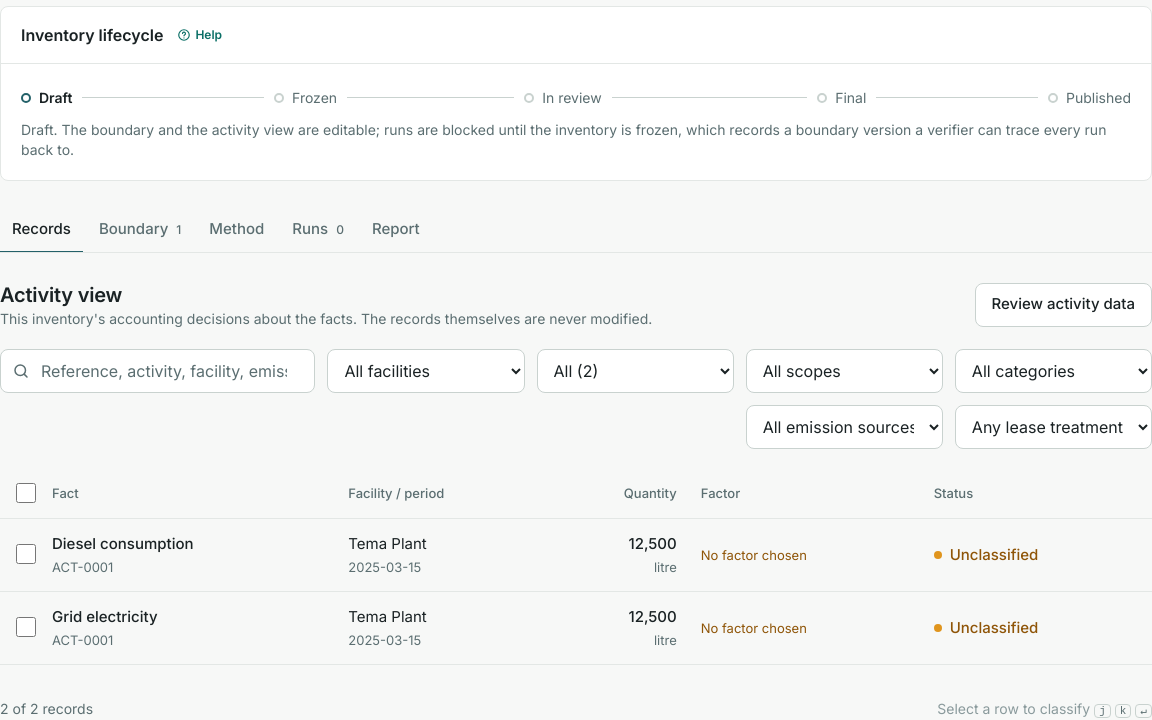
Test: a page of records is excluded under one reason (spec 05.6)
This screenshot has width=1152, height=720.
(page scrolled)
Click the checkbox named "Select all on this page".
click(26, 492)  # box x1=16 y1=482 x2=36 y2=502
(page scrolled)
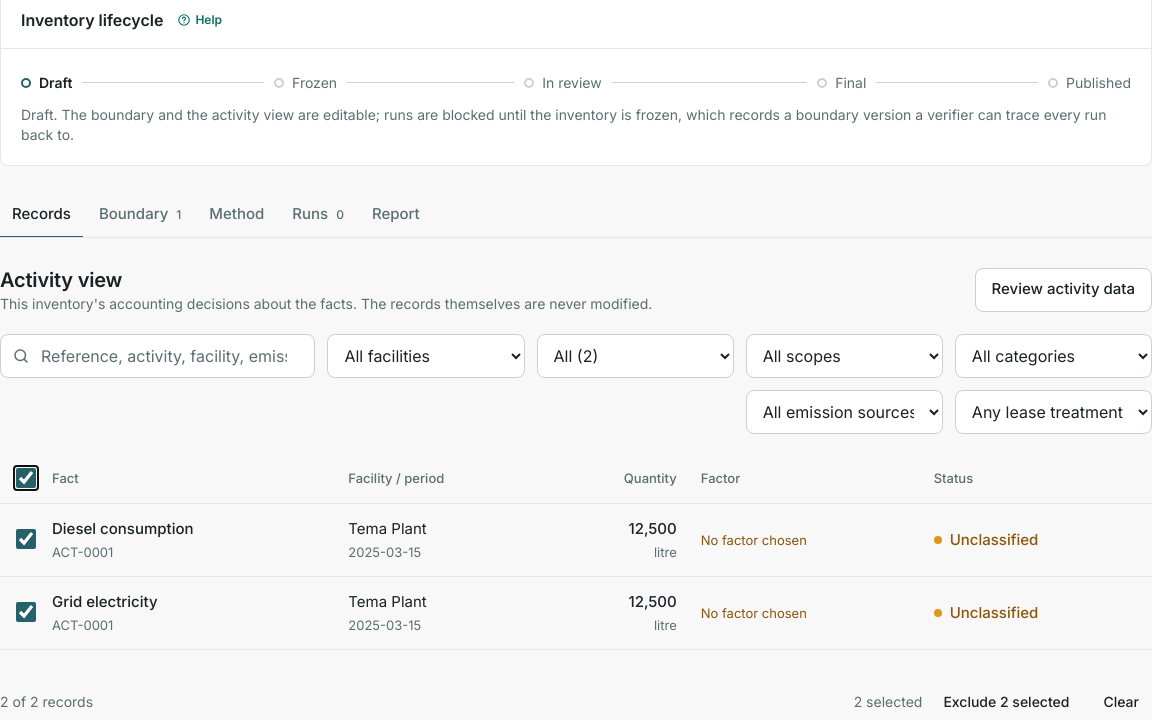
Click the button "Exclude 2 selected".
click(1006, 702)  # box x1=930 y1=684 x2=1082 y2=719
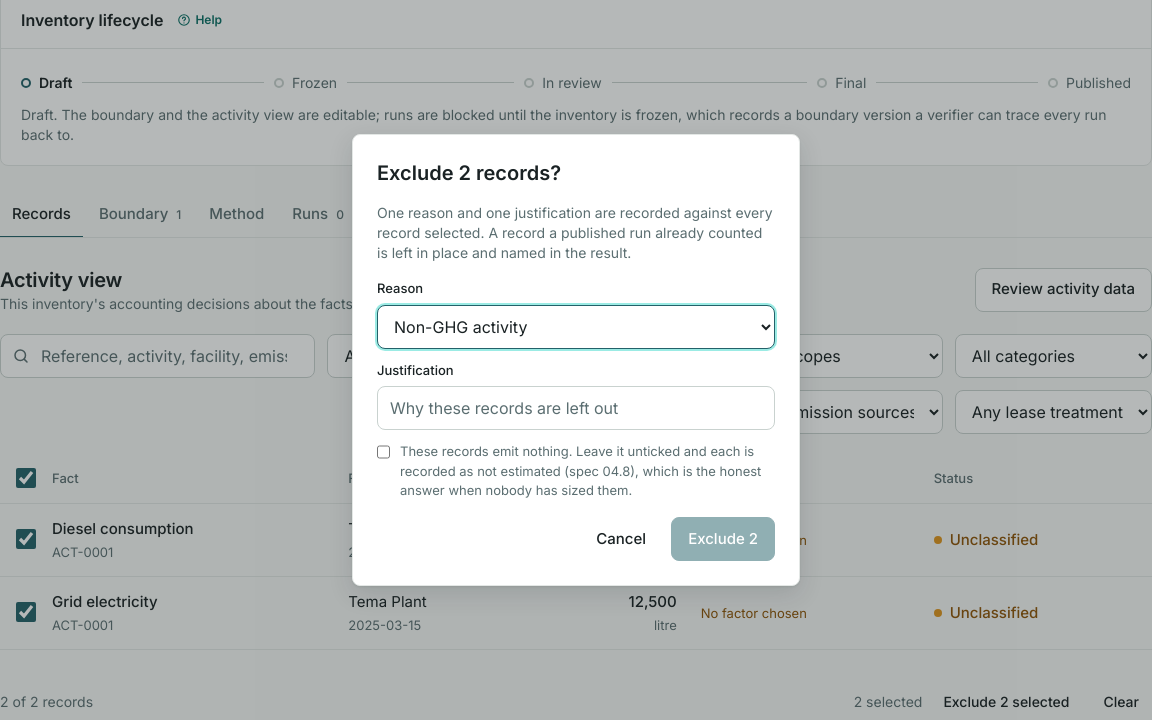
Select "Not applicable" in the dropdown labelled "Reason" at (576, 327), box x1=377 y1=305 x2=775 y2=349
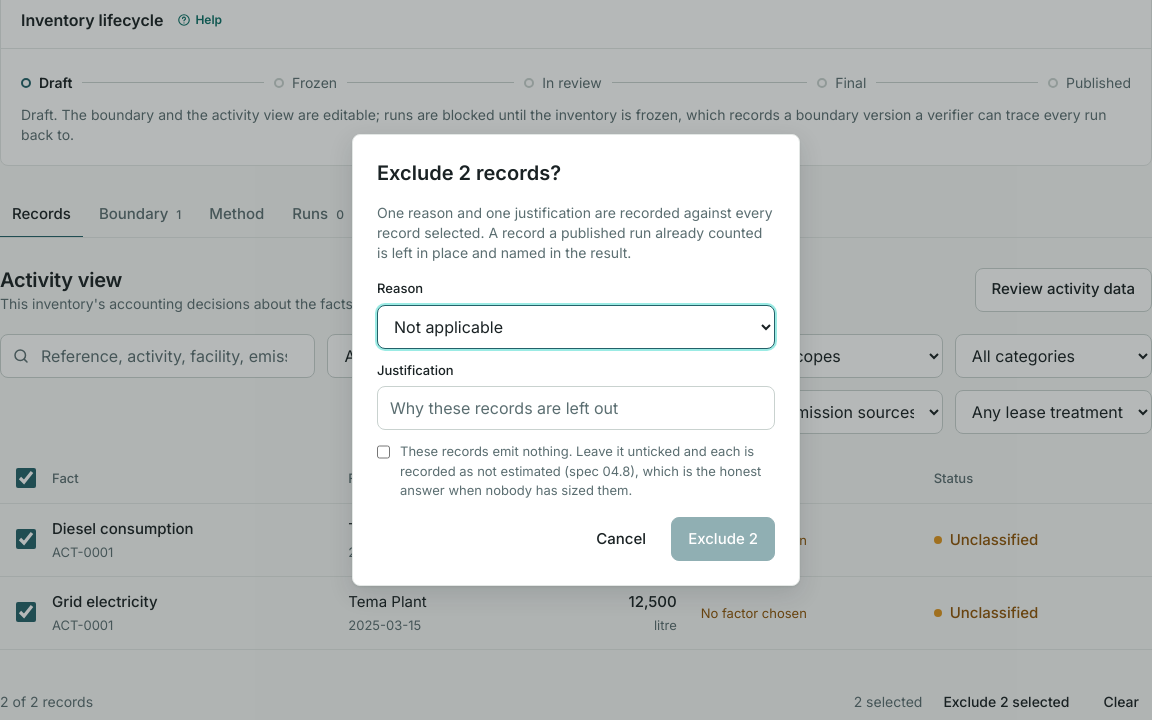
Type "the Tema JV reports its own inventory" into the field labelled "Justification".
click(576, 408); type("the Tema JV reports its own inventory")  # box x1=377 y1=386 x2=775 y2=430
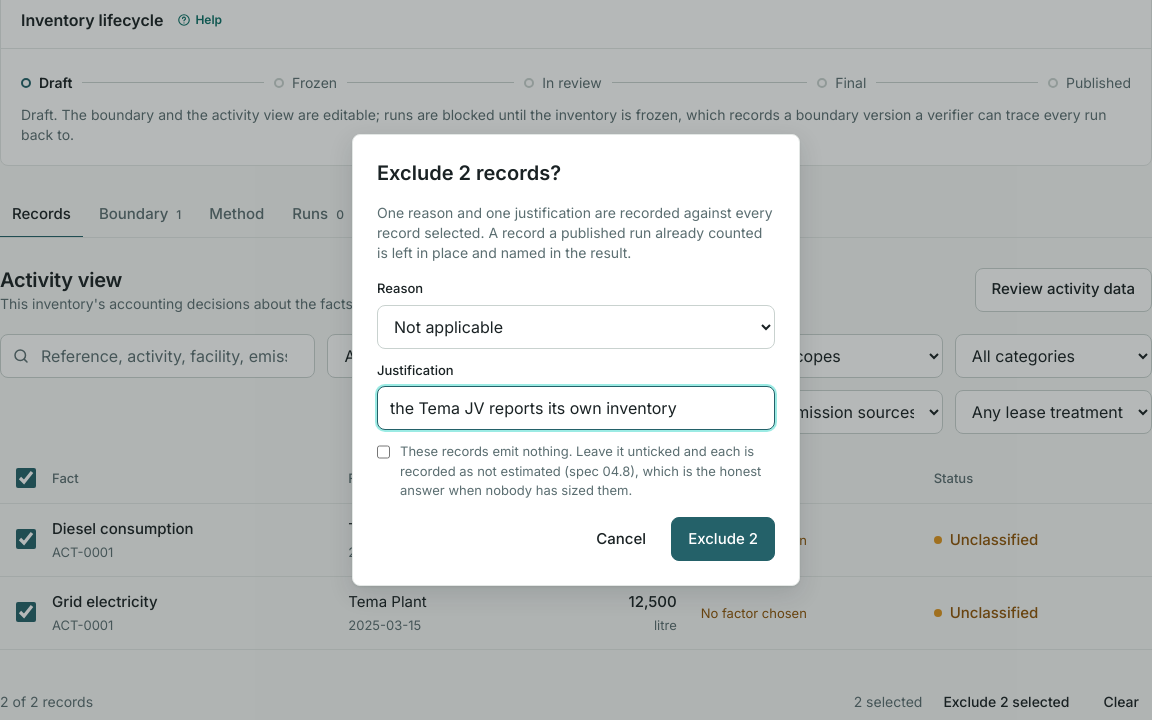
Click the button "Exclude 2".
click(723, 539)  # box x1=671 y1=517 x2=775 y2=561
(page scrolled)
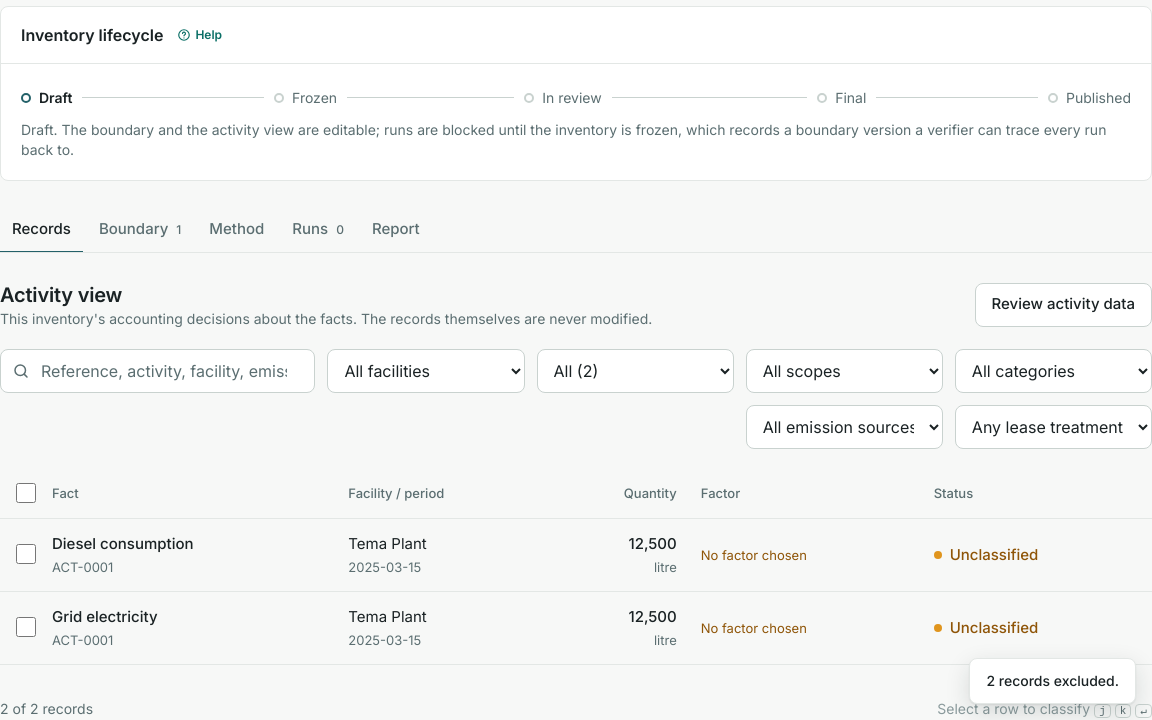
Result: the text "2 records excluded." is shown at x1=969 y1=658 x2=1136 y2=704
